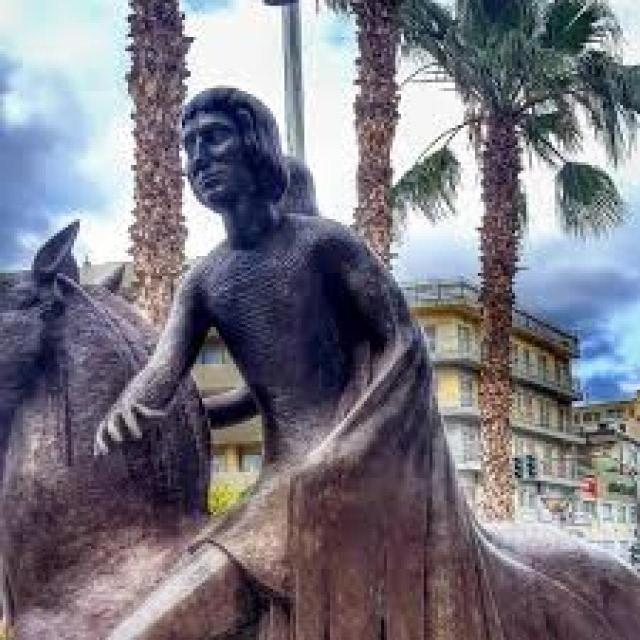Aretousa: (1, 85, 640, 640)
